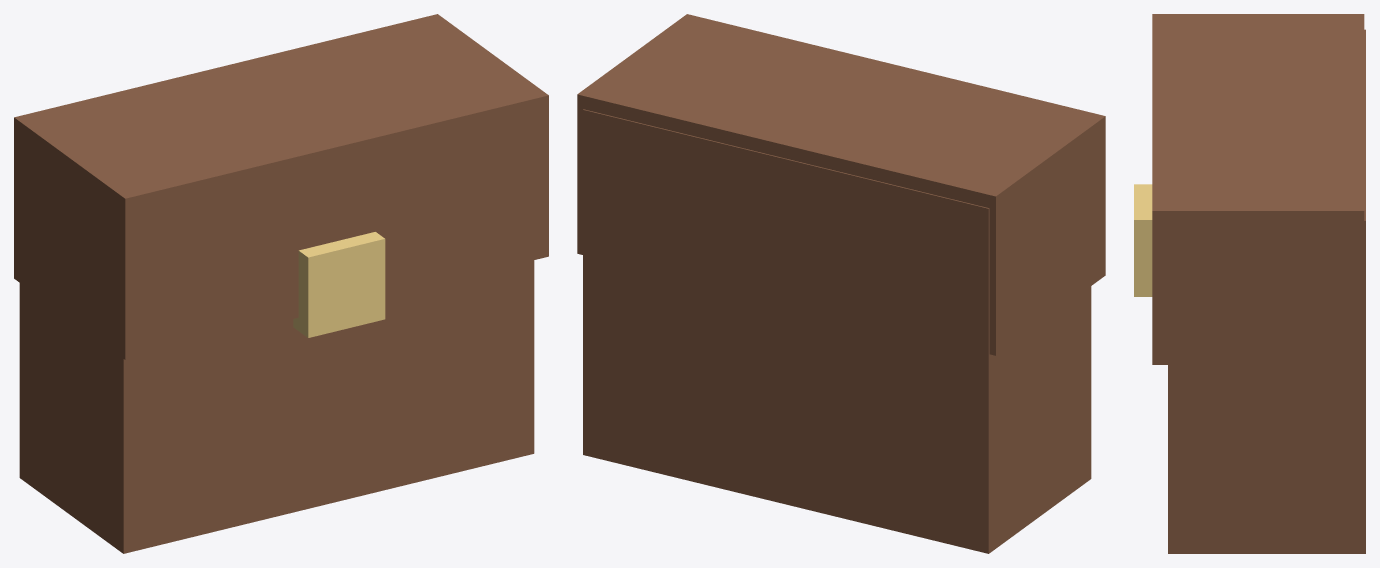
File: borsa.glb
3 views of the same model, side by side, from view 1: azimuth 30°, elevation 25°; view 2: azimuth 150°, elevation 25°; view 3: azimuth 270°, elevation 25° (orthographic). The views are drawn at different scales.
Parts seen in each view (by area): view 1: borsa; view 2: borsa; view 3: borsa.
Part boxes in pixels (box(x1,y1,x2,y2)): borsa: box(14, 14, 548, 553); borsa: box(577, 14, 1105, 553); borsa: box(1134, 14, 1365, 553).
Bounding box in the file's own units: 0.165 × 0.135 × 0.082.
